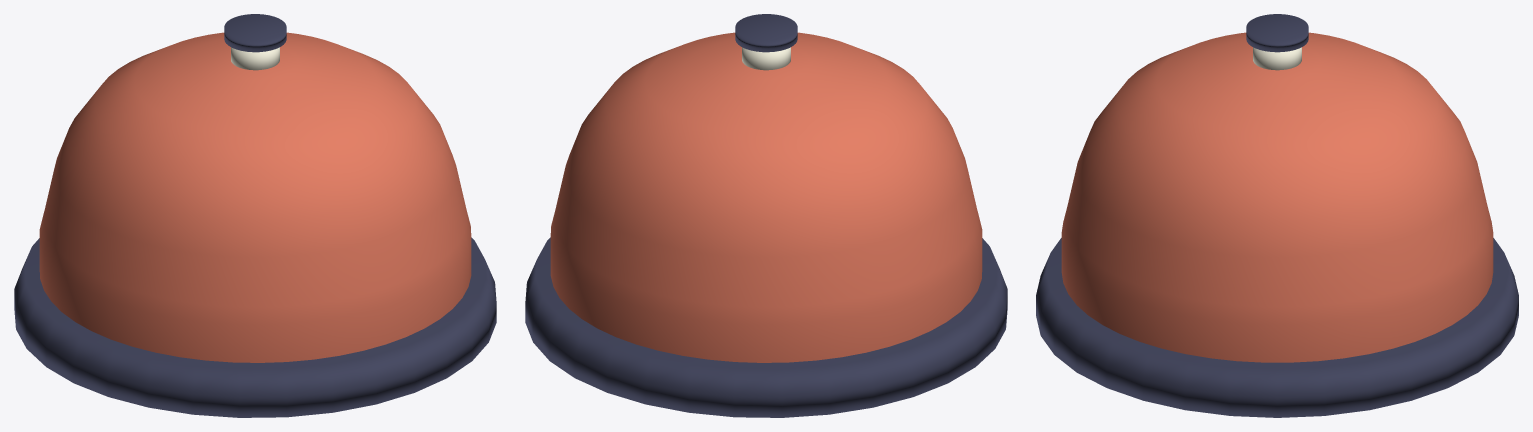
File: bell.glb
3 views of the same model, side by side, from view 1: azimuth 30°, elevation 25°; view 2: azimuth 150°, elevation 25°; view 3: azimuth 270°, elevation 25° (orthographic).
Visible parts, largest first — view 1: Sphere, Cylinder, Cylinder.002, Cylinder.001; view 2: Sphere, Cylinder, Cylinder.002, Cylinder.001; view 3: Sphere, Cylinder, Cylinder.002, Cylinder.001.
Boxes of the visible parts, x1=… form: Sphere: x1=39, y1=32, x2=471, y2=362; Cylinder: x1=14, y1=237, x2=496, y2=417; Cylinder.002: x1=224, y1=14, x2=286, y2=52; Cylinder.001: x1=231, y1=47, x2=279, y2=70; Sphere: x1=550, y1=32, x2=982, y2=362; Cylinder: x1=525, y1=237, x2=1007, y2=417; Cylinder.002: x1=735, y1=14, x2=797, y2=52; Cylinder.001: x1=742, y1=47, x2=790, y2=70; Sphere: x1=1061, y1=32, x2=1493, y2=362; Cylinder: x1=1036, y1=238, x2=1518, y2=417; Cylinder.002: x1=1246, y1=14, x2=1308, y2=52; Cylinder.001: x1=1253, y1=47, x2=1301, y2=70.
Size of the model in its own units: 1.02 by 0.6731 by 1.02.
